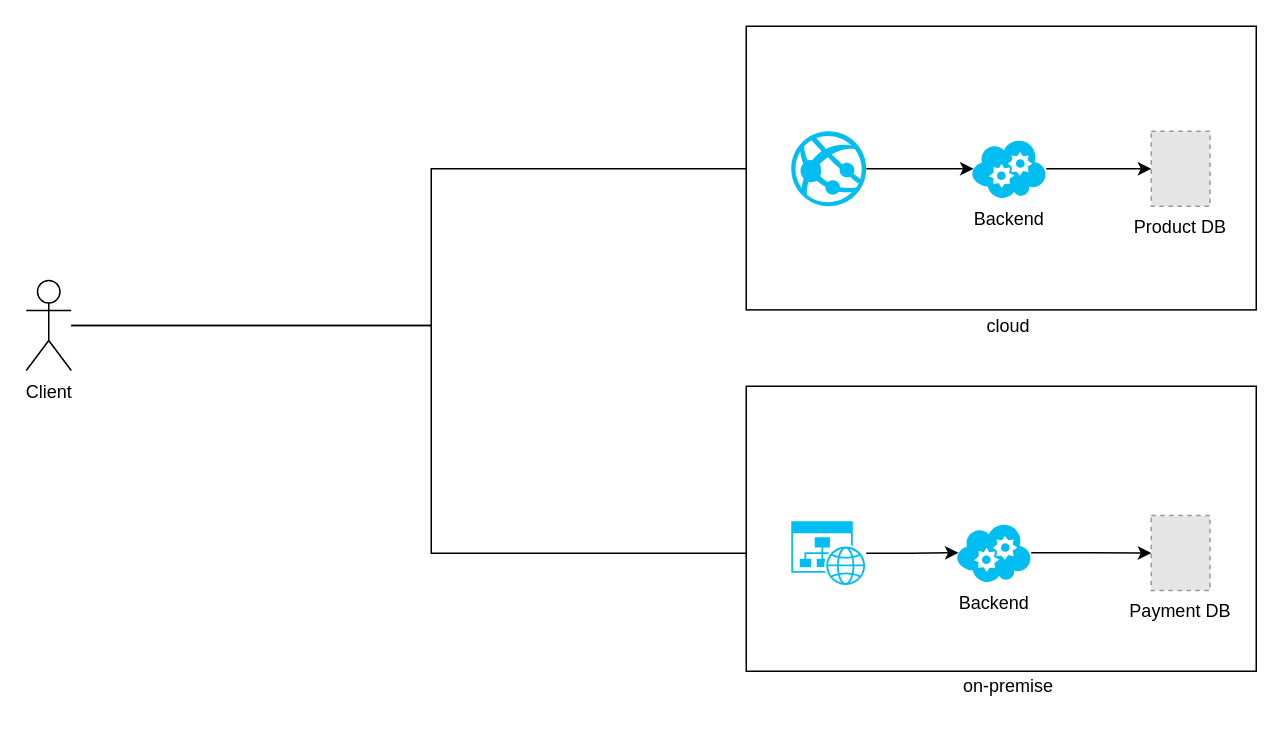
Image size: 1283x729. Some labels were removed from this diagram. Grey dashed boxes stand in for pictures. Each missing label, with the box of its shape:
Payment Website: (790, 520, 866, 584)
Website: (790, 130, 866, 206)
